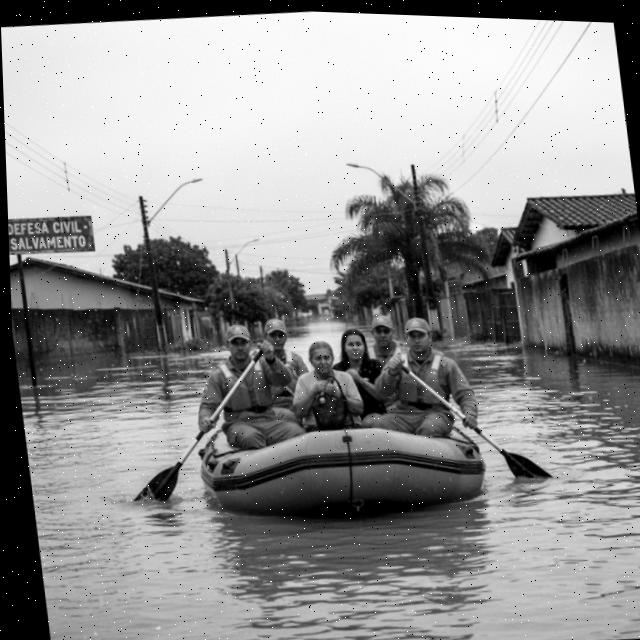civilian: (286, 337, 373, 436), (329, 321, 389, 434)
rescuer: (185, 316, 304, 460), (370, 305, 486, 448), (248, 311, 317, 438), (356, 305, 414, 382)
